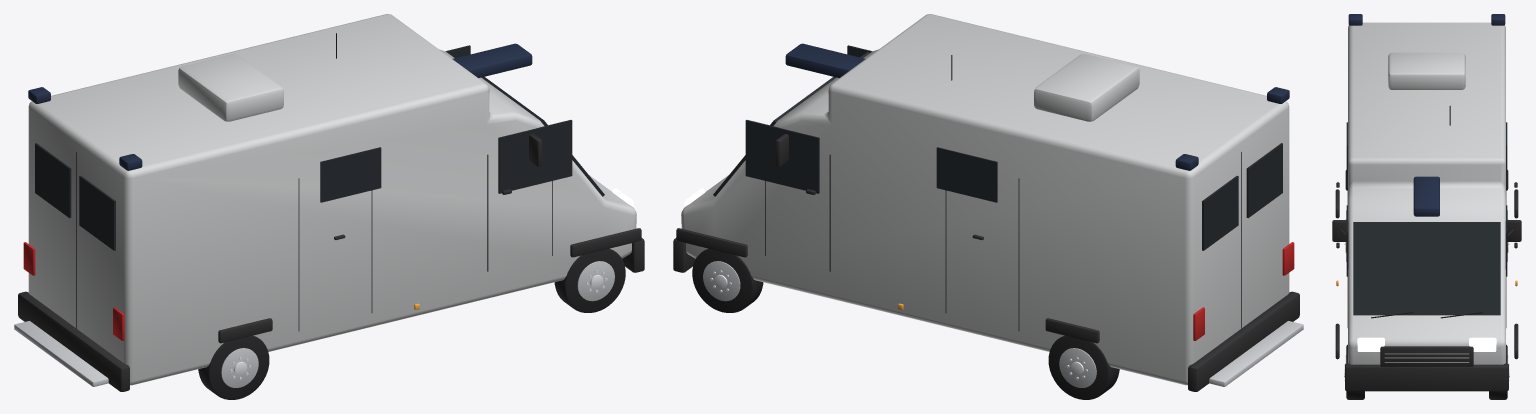
Rendered from ambulanza.glb.
3 views of the same model, side by side, from view 1: azimuth 30°, elevation 25°; view 2: azimuth 150°, elevation 25°; view 3: azimuth 270°, elevation 25° (orthographic). The views are drawn at different scales.
Visible parts, largest first — view 1: amb_corpo, amb_vetri, amb_ruote, amb_lampeggianti, amb_fari; view 2: amb_corpo, amb_vetri, amb_ruote, amb_lampeggianti, amb_fari; view 3: amb_corpo, amb_vetri, amb_lampeggianti, amb_fari, amb_ruote.
Part boxes in pixels (box(x1,y1,x2,y2)): amb_corpo: box(14, 14, 644, 391); amb_vetri: box(35, 45, 604, 250); amb_ruote: box(198, 248, 625, 399); amb_lampeggianti: box(28, 43, 532, 170); amb_fari: box(23, 188, 633, 340); amb_corpo: box(673, 14, 1303, 391); amb_vetri: box(713, 45, 1282, 250); amb_ruote: box(692, 248, 1119, 399); amb_lampeggianti: box(785, 43, 1289, 170); amb_fari: box(684, 188, 1294, 340); amb_corpo: box(1332, 22, 1521, 391); amb_vetri: box(1346, 122, 1507, 318); amb_lampeggianti: box(1348, 14, 1505, 216); amb_fari: box(1357, 337, 1496, 351); amb_ruote: box(1344, 210, 1509, 399).
Size of the model in its own units: 6.29 by 3.1 by 2.44.
